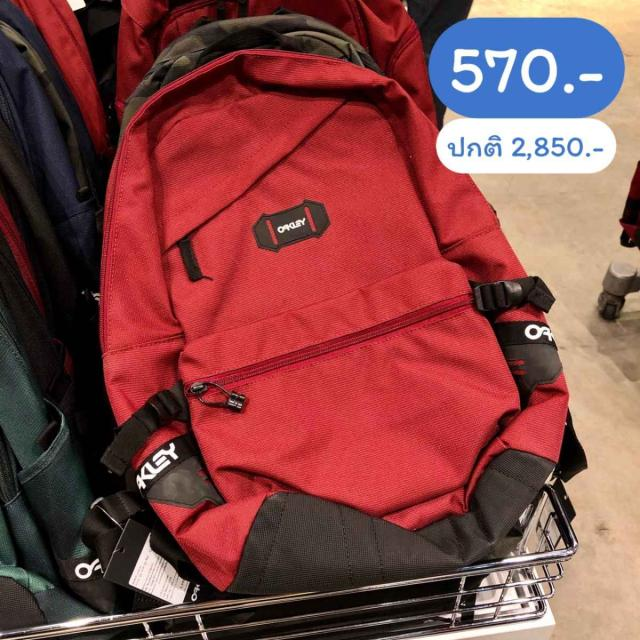Handbag: (74, 12, 568, 612)
